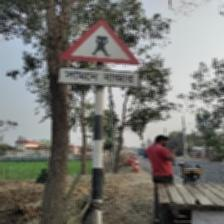Market-in-front: (60, 19, 142, 91)
